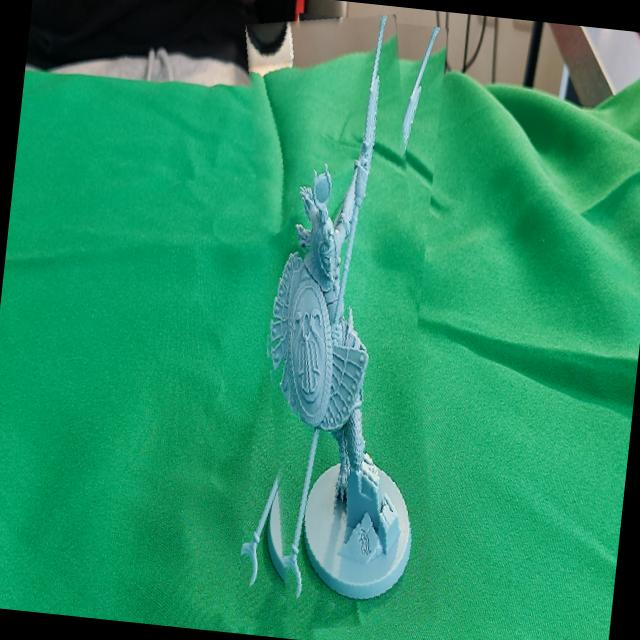isis: (208, 6, 474, 640)
